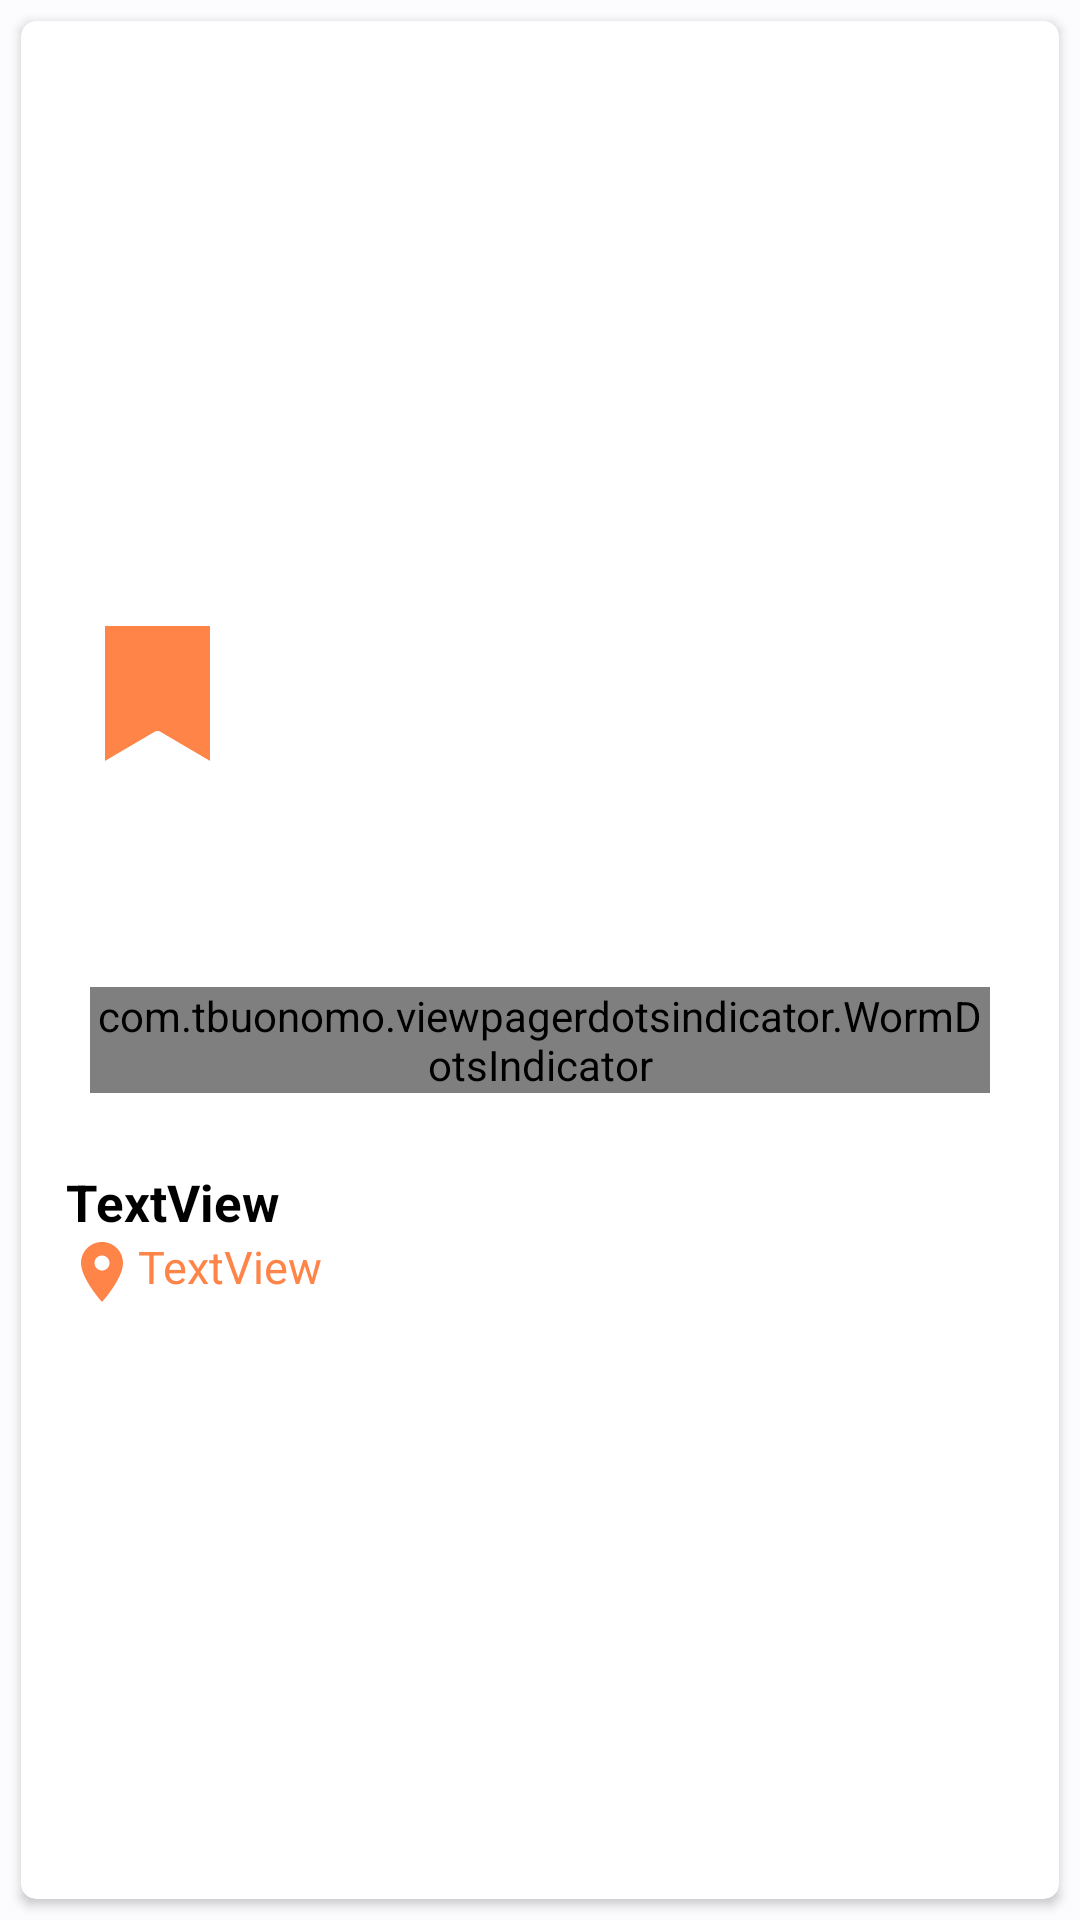

Where to tap for icons on this 1080 × 1920 app screen, as (x,y):
marker: (102,1272)
